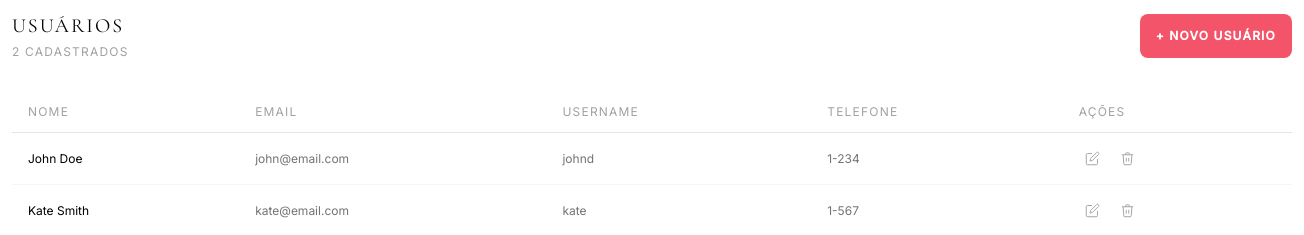
UsersPage (Admin) › CA-F2.1-4: deletes a user and removes from the list
Expected: the text "johnd" is shown, [546,132,811,184]
What coordinates should you click on to do the following:
click the button named "excluir" in the row of "Doe"
I would click on:
 (1127, 158)
Its box is [1114,145,1141,172].
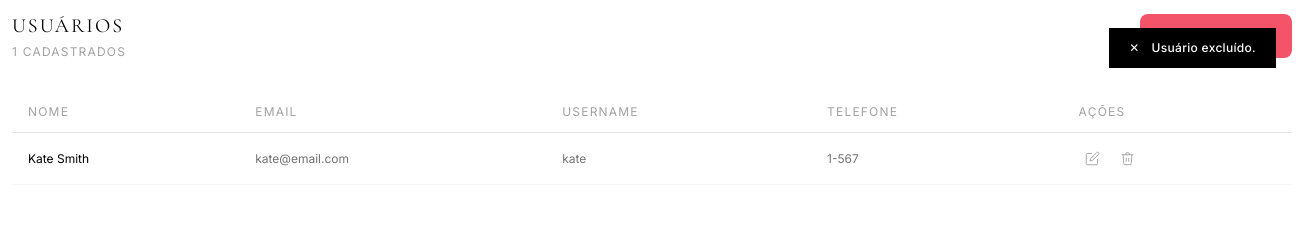
Expected: the text "johnd" is gone
